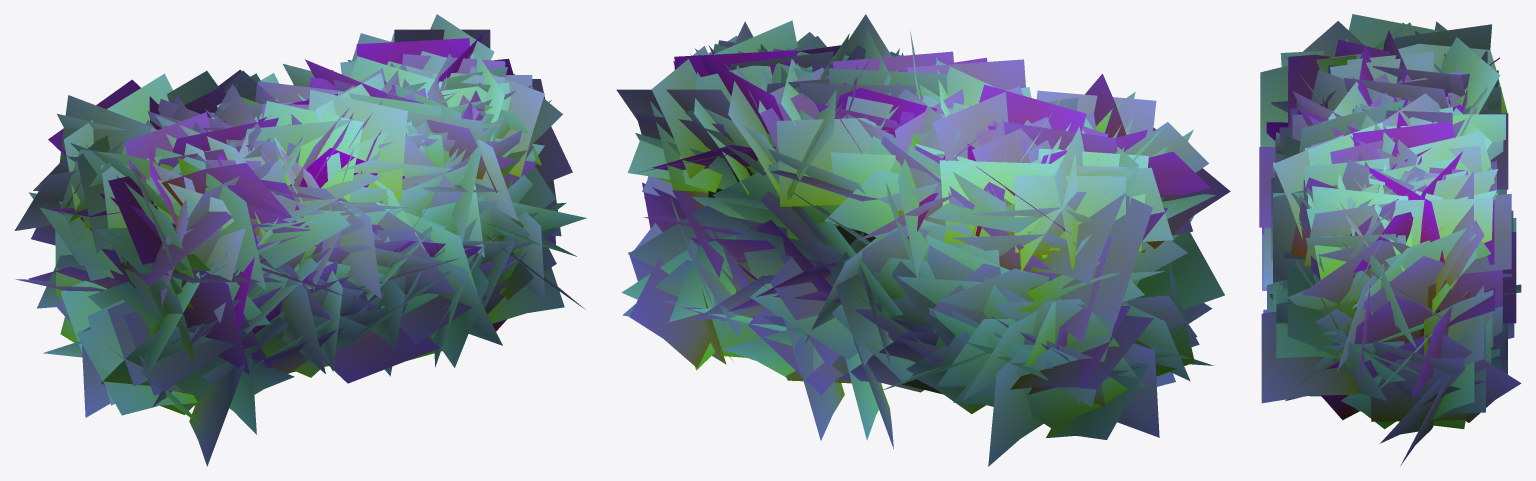
Rendered from hedge_trimmed.glb.
The picture shows the model from 3 angles, left to right: view 1: azimuth 30°, elevation 25°; view 2: azimuth 150°, elevation 25°; view 3: azimuth 270°, elevation 25°; orthographic projection. The views are drawn at different scales.
Visible parts, largest first — view 1: hedge_trimmed_leaves; view 2: hedge_trimmed_leaves; view 3: hedge_trimmed_leaves.
Part boxes in pixels (box(x1,y1,x2,y2)): hedge_trimmed_leaves: box(14, 14, 586, 466); hedge_trimmed_leaves: box(616, 14, 1230, 466); hedge_trimmed_leaves: box(1259, 14, 1521, 465).
Size of what is drawn, in the model's own units: 2.12 by 1.23 by 1.1.
